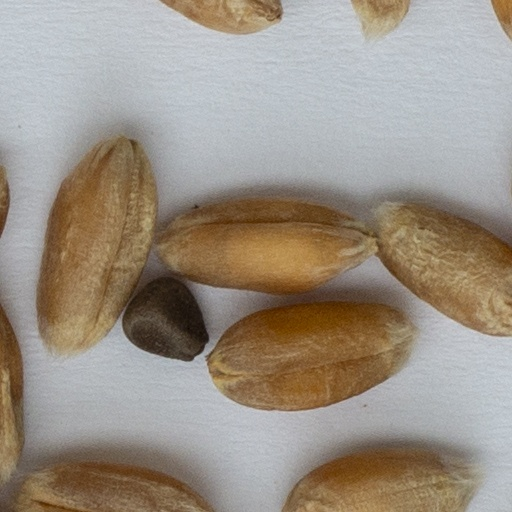Wheat-grain-damaged-poly: (346, 0, 413, 42)
